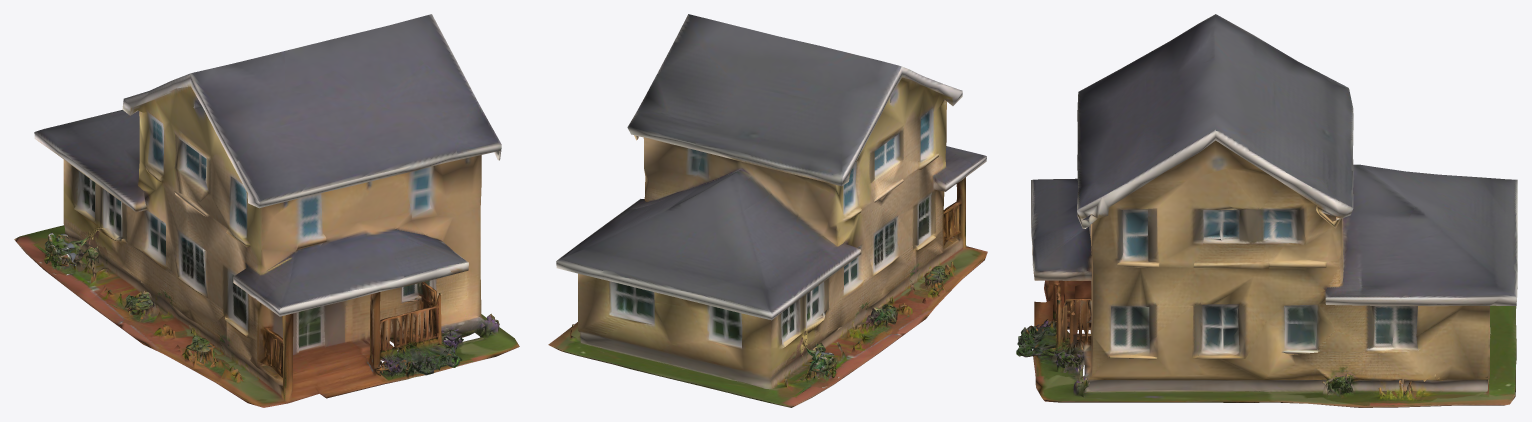
File: casa_3D_0503220629_texture.glb
3 renders of one model, left to right at view 1: azimuth 30°, elevation 25°; view 2: azimuth 150°, elevation 25°; view 3: azimuth 270°, elevation 25°, orthographic. The views are drawn at different scales.
Size of the model in its own units: 1.33 by 1.16 by 1.96.
1 material, 1 textured.
